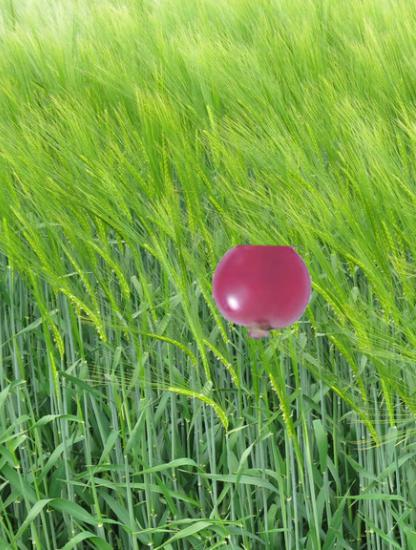Redcurrant: (212, 243, 312, 343)
